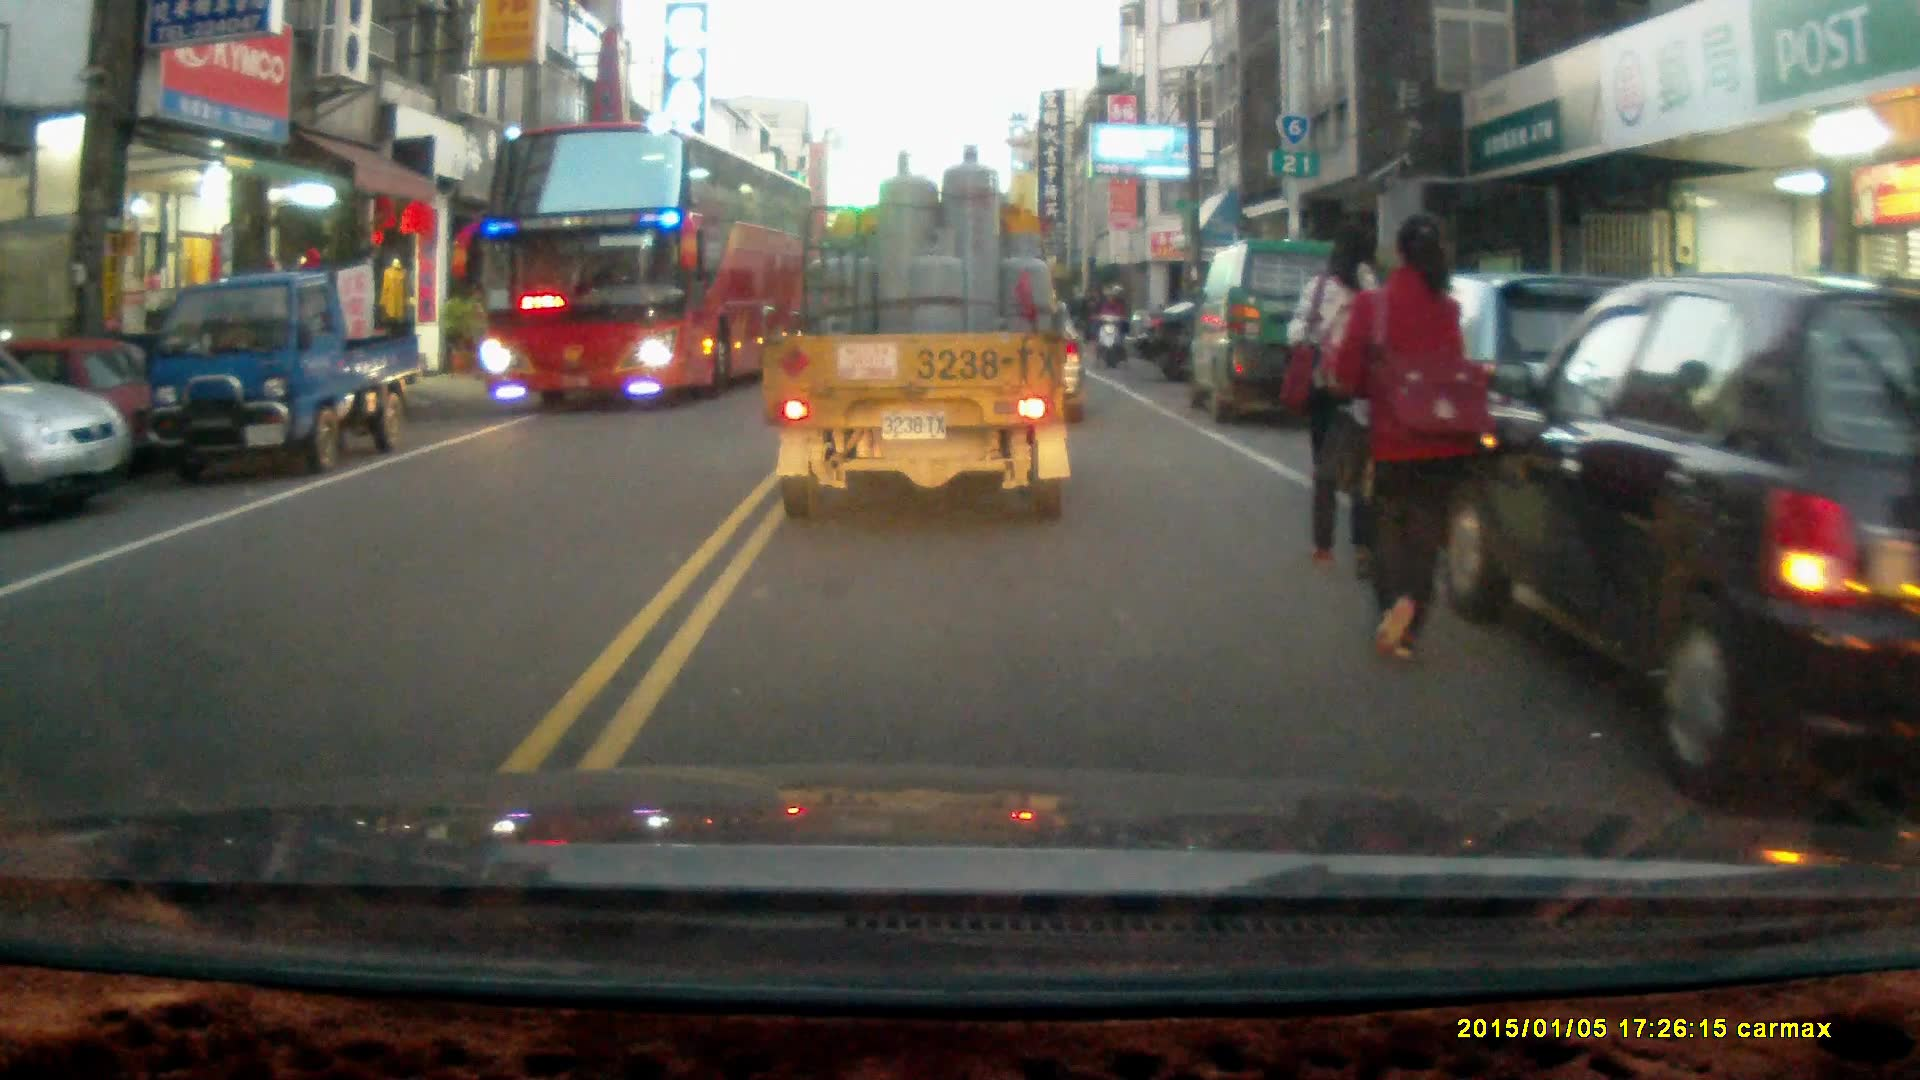pedestrian: (1330, 209, 1475, 667), (1289, 213, 1407, 583)
rider: (1092, 281, 1132, 369)
vehicle: (1444, 270, 1920, 789), (758, 142, 1079, 521), (474, 120, 815, 414), (138, 273, 423, 474), (1195, 236, 1374, 423), (1, 339, 131, 520)
